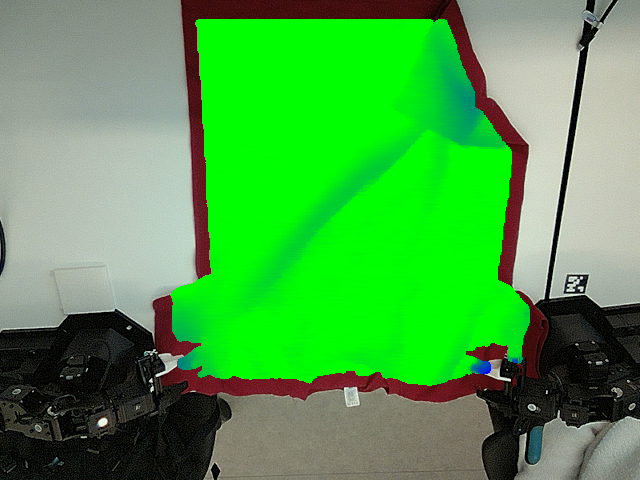V: (386, 81, 421, 120)
